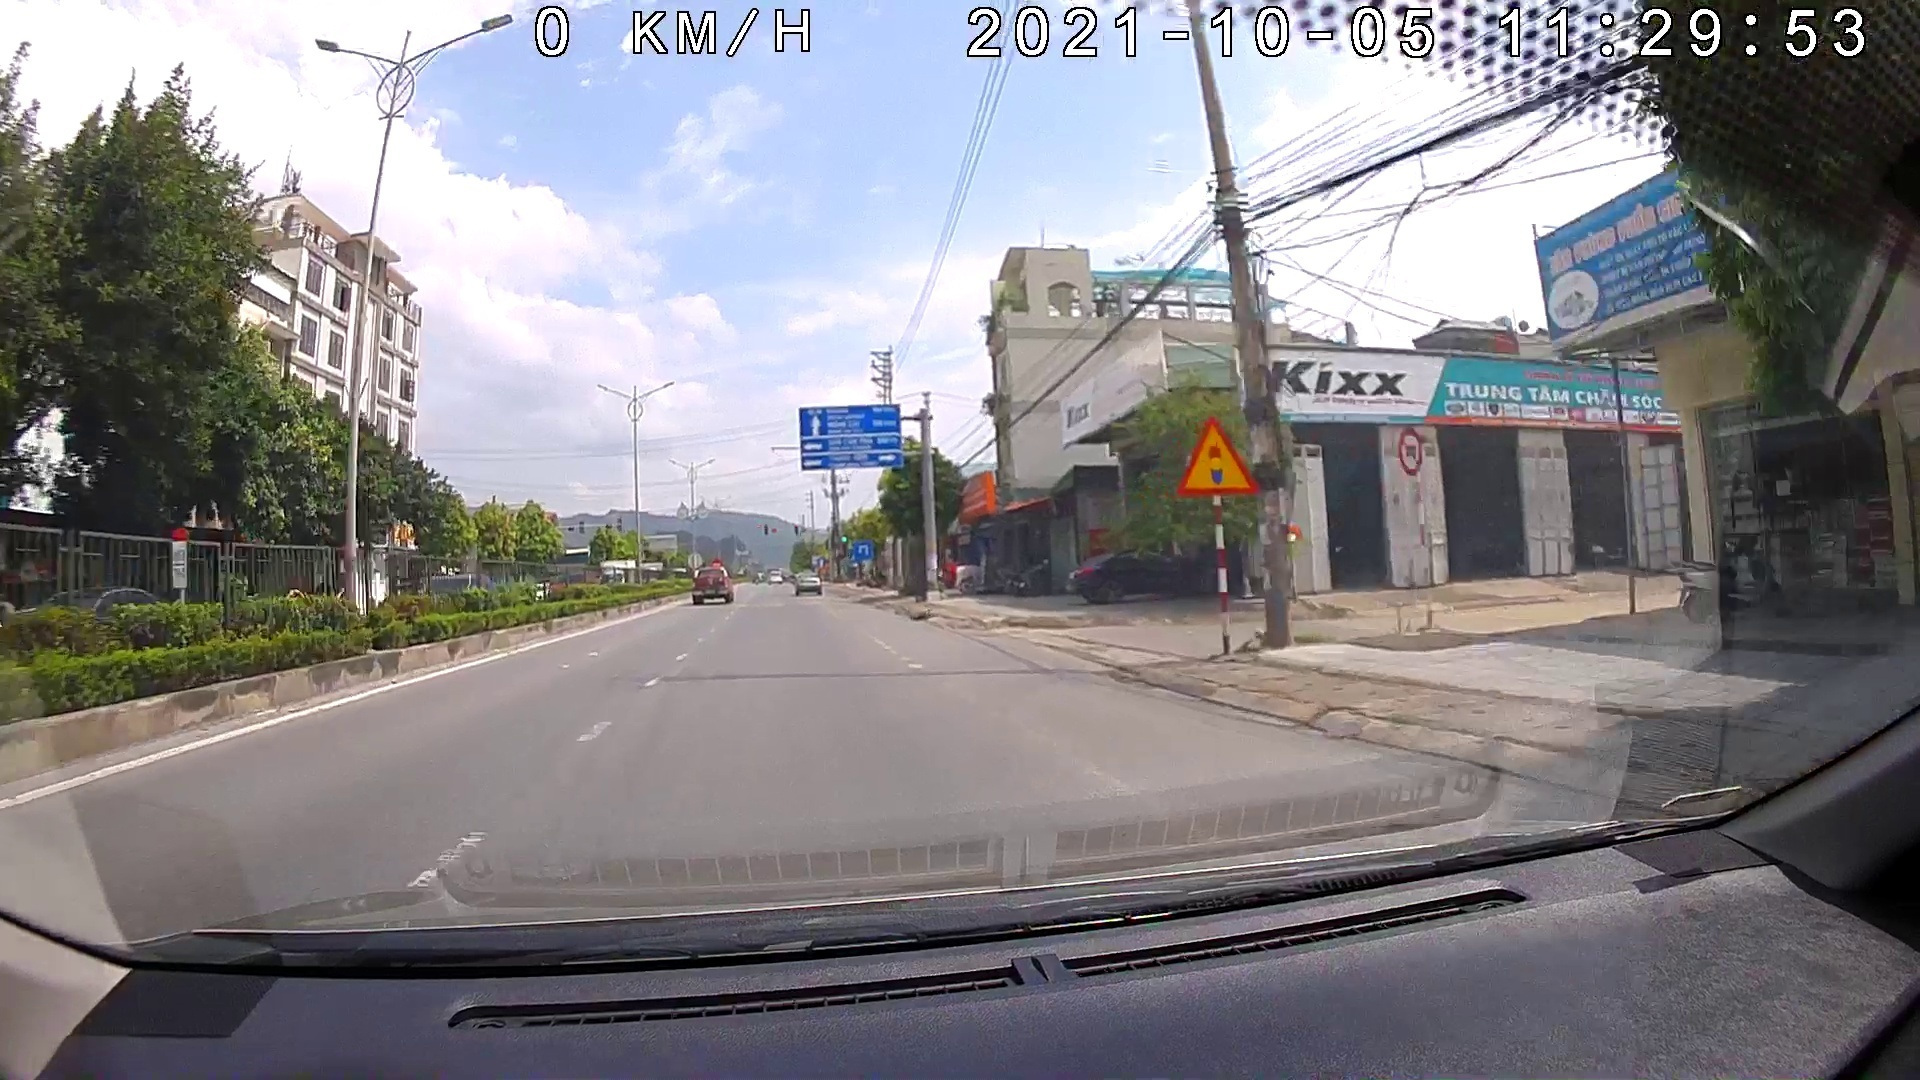Bien khac: (1178, 415, 1255, 501), (849, 541, 872, 560)
